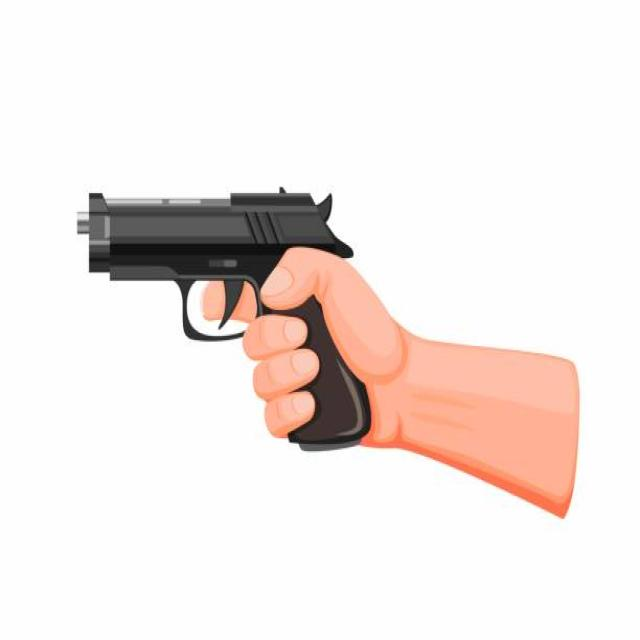HandGun: (78, 189, 371, 448)
